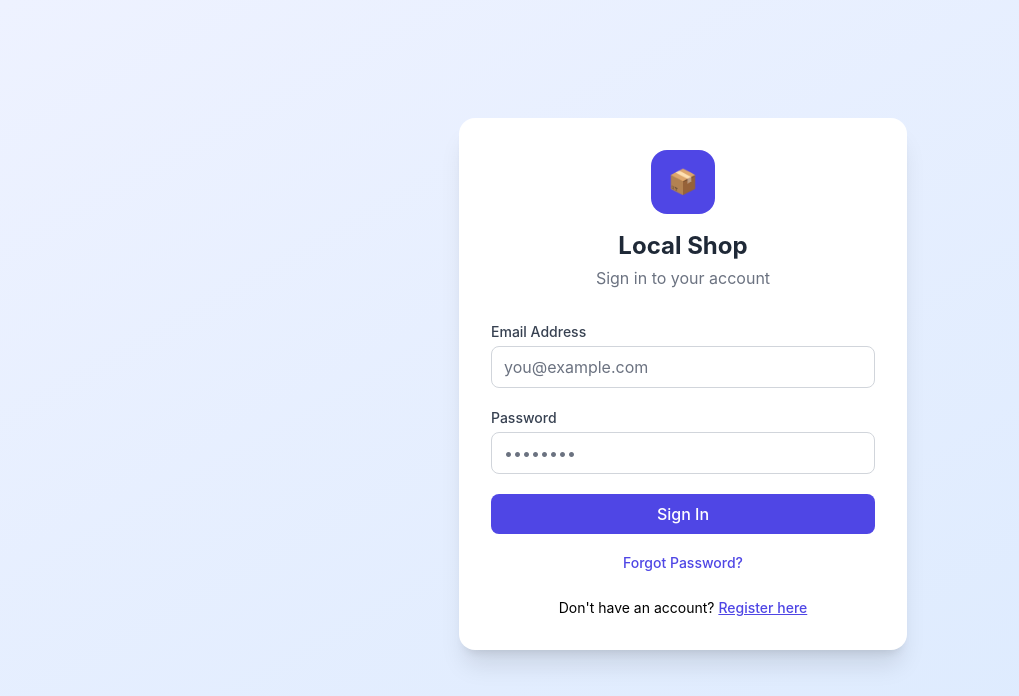
Test: Login Page › shows validation error for short password
This screenshot has width=1019, height=696.
Type "test@gmail.com" into the field with placeholder "you@example.com" at (683, 367), box [491, 346, 875, 388]
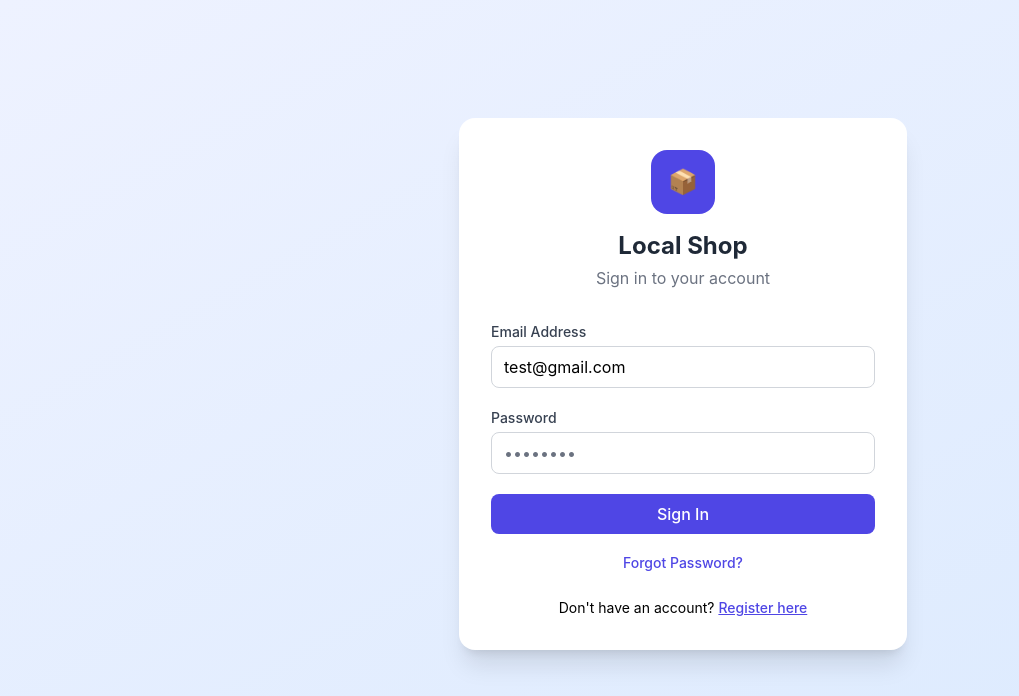
Type "123" into the password field with placeholder "••••••••" at (683, 453), box [491, 432, 875, 474]
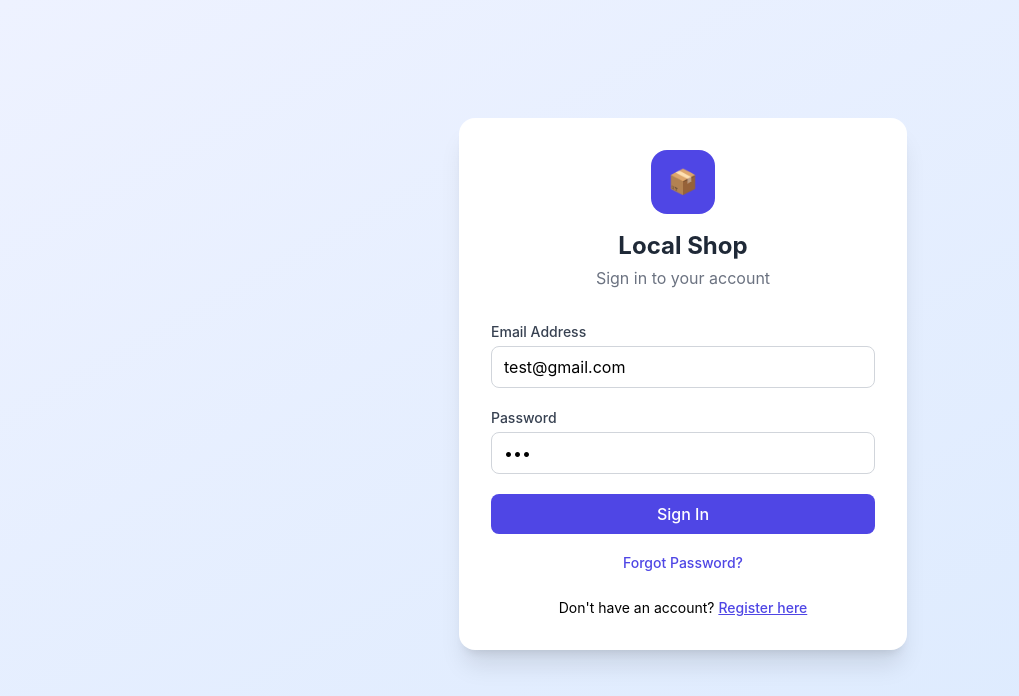
Click the button "Sign In" at (683, 514), box [491, 494, 875, 534]
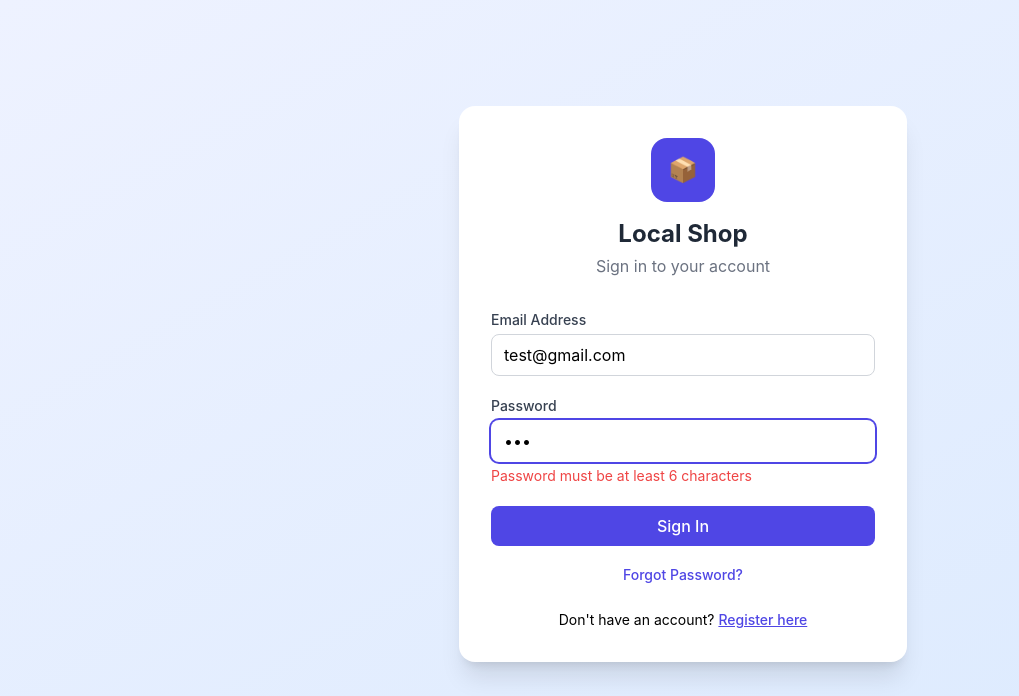
Now the text "Password must be at least 6 characters" is shown, box [491, 467, 752, 484]
